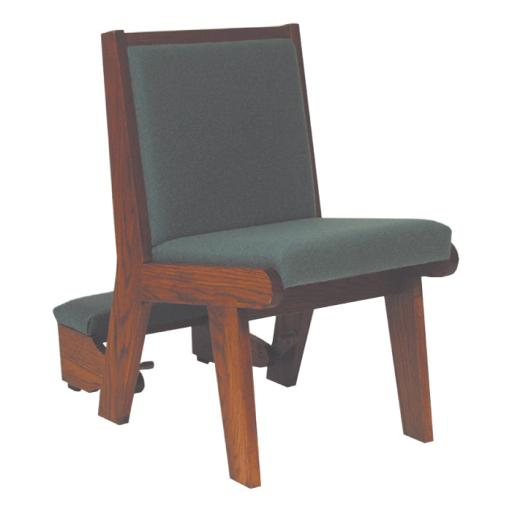chair: (48, 24, 458, 486)
